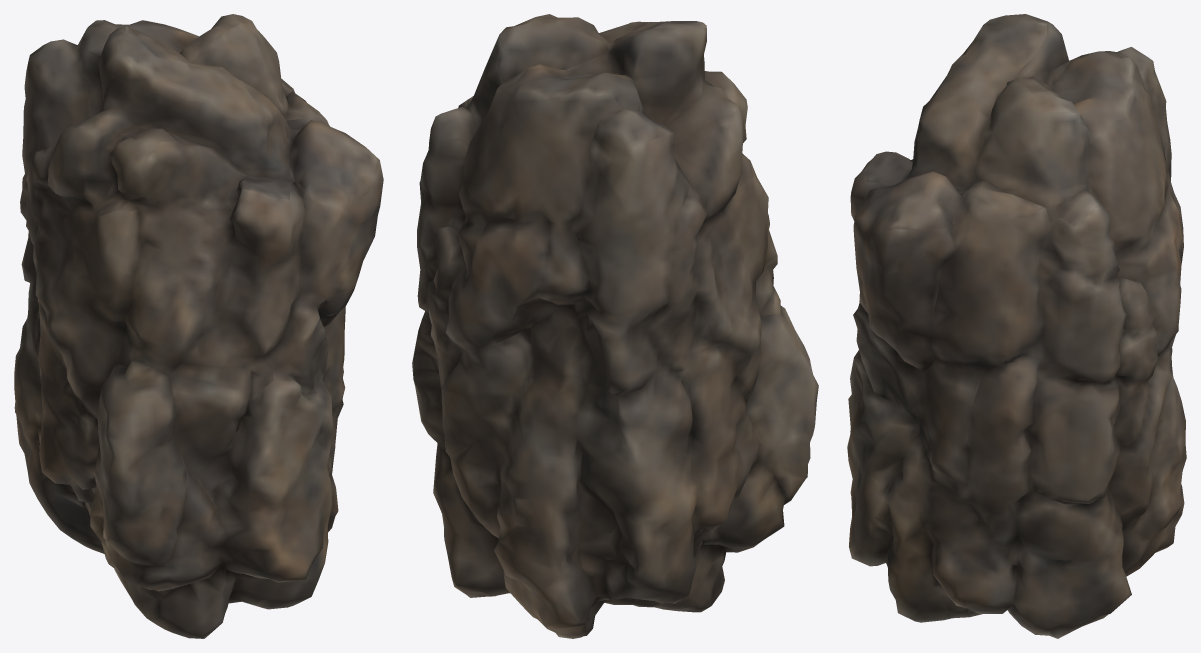
File: Rock_06_a.fbx
The picture shows the model from 3 angles, left to right: view 1: azimuth 30°, elevation 25°; view 2: azimuth 150°, elevation 25°; view 3: azimuth 270°, elevation 25°; orthographic projection. The views are drawn at different scales.
Visible parts, largest first — view 1: Rock_06; view 2: Rock_06; view 3: Rock_06.
Boxes of the visible parts, <box> form: Rock_06: <box>14,14,383,638</box>; Rock_06: <box>412,14,818,638</box>; Rock_06: <box>847,14,1186,638</box>.
Size of what is drawn, in the model's own units: 438 by 816 by 445.
